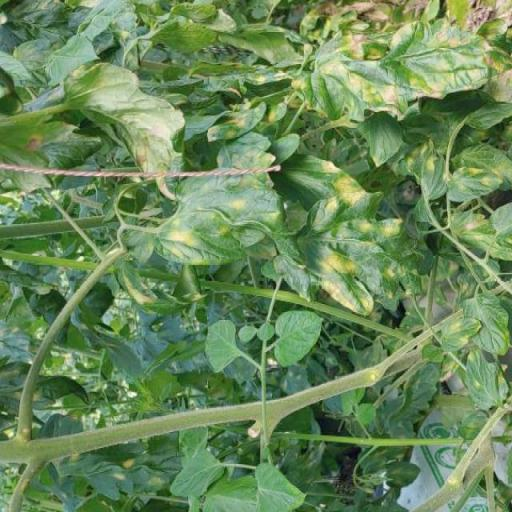Leaf Mold: (152, 167, 322, 303), (290, 36, 512, 124), (298, 192, 436, 316), (64, 64, 186, 202), (58, 440, 184, 500), (462, 293, 510, 355), (406, 138, 448, 200), (465, 348, 508, 408), (447, 167, 503, 203)
